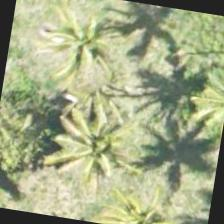Kelapa_Sawit: (41, 89, 144, 192), (33, 0, 137, 93), (0, 92, 61, 191), (91, 171, 190, 223)
